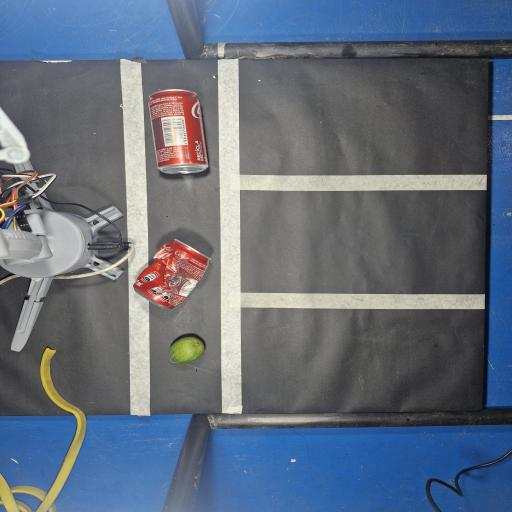higo: (169, 337, 204, 363)
lata: (148, 89, 208, 173)
lata_defectuoso: (133, 239, 210, 309)
